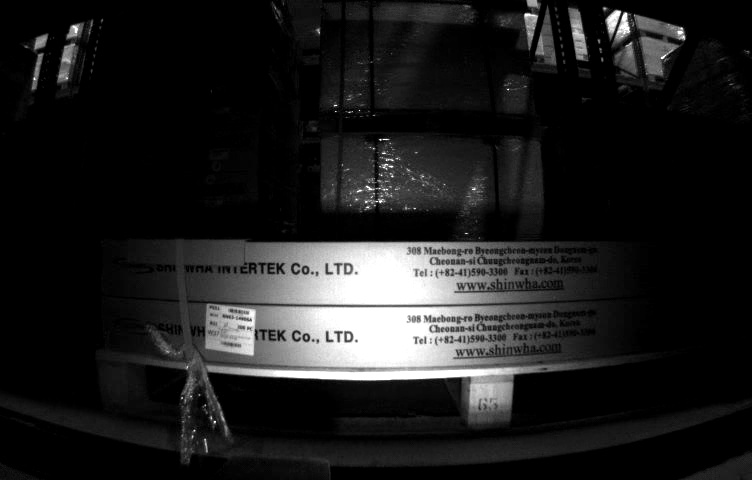True Barcode: (205, 303, 257, 357)
